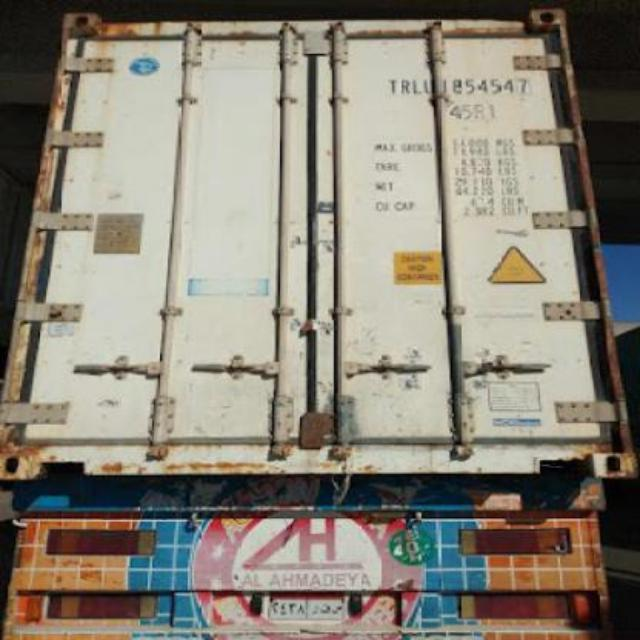4: (502, 76, 514, 96), (478, 78, 490, 92)
5: (488, 76, 502, 96), (464, 78, 478, 94)
7: (518, 78, 530, 96)
8: (452, 80, 464, 96)
L: (411, 80, 424, 96)
R: (400, 78, 410, 94)
T: (388, 78, 398, 94)
U: (424, 78, 436, 94)
